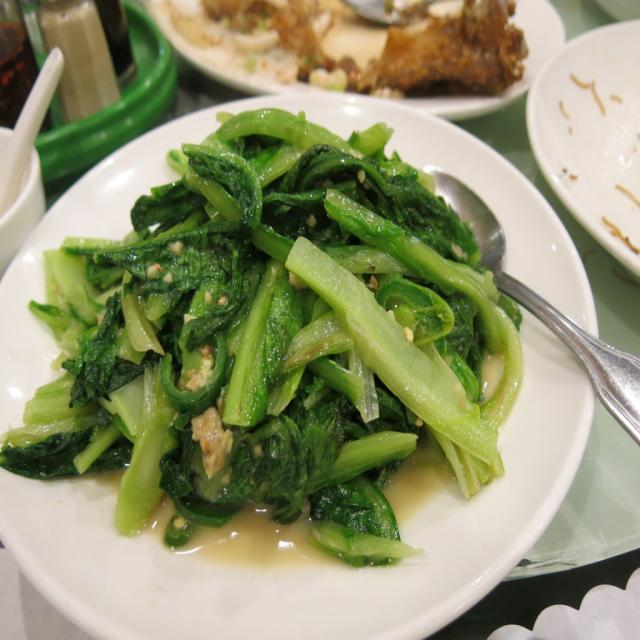non-organic waste: (13, 103, 570, 640)
